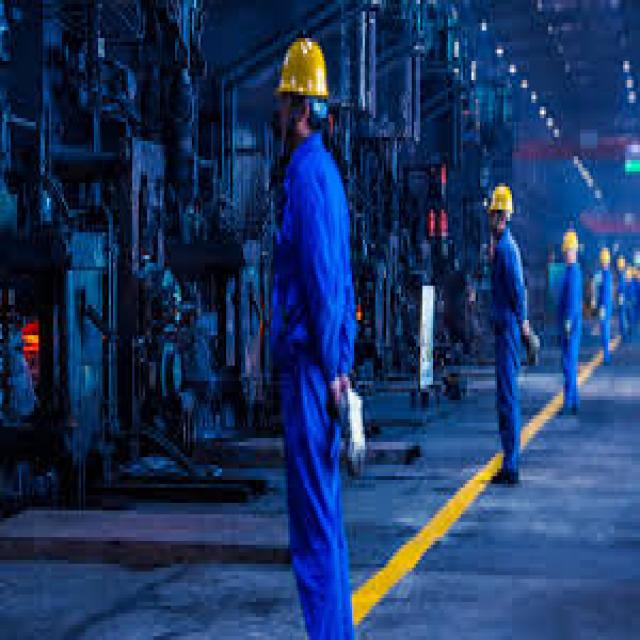Safety-Helmet: (269, 30, 335, 114), (482, 175, 519, 225), (559, 221, 582, 263)
